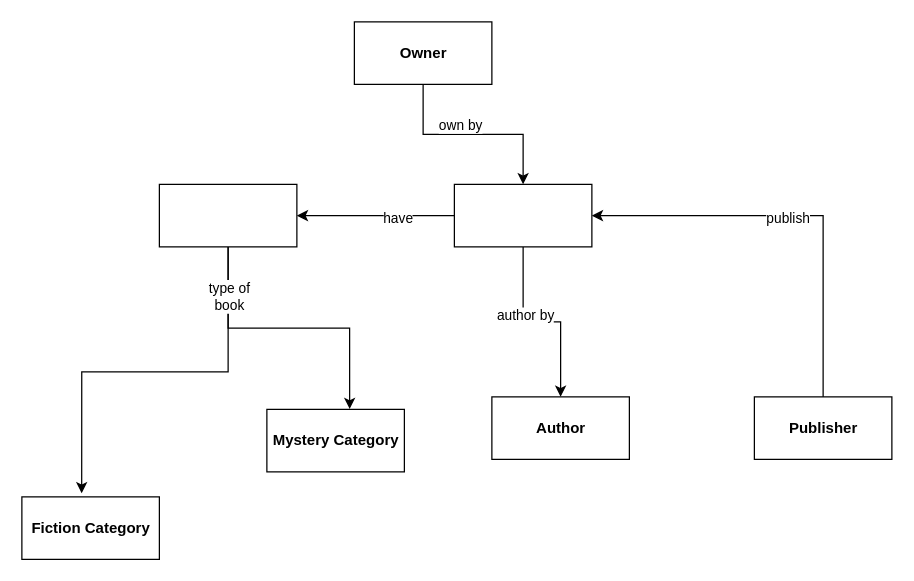
The diagram is 914 pixels wide and 581 high, and some of its shapes have lost their labels. Here are the shapes that lost their labels. From the top down, the centre of each, then its label:
At (x=227, y=215): "Library".
At (x=522, y=215): "Book".
